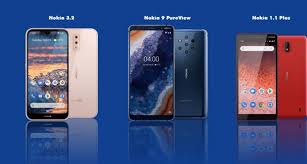nokia: (21, 25, 69, 122), (128, 24, 176, 121), (235, 29, 280, 123)
